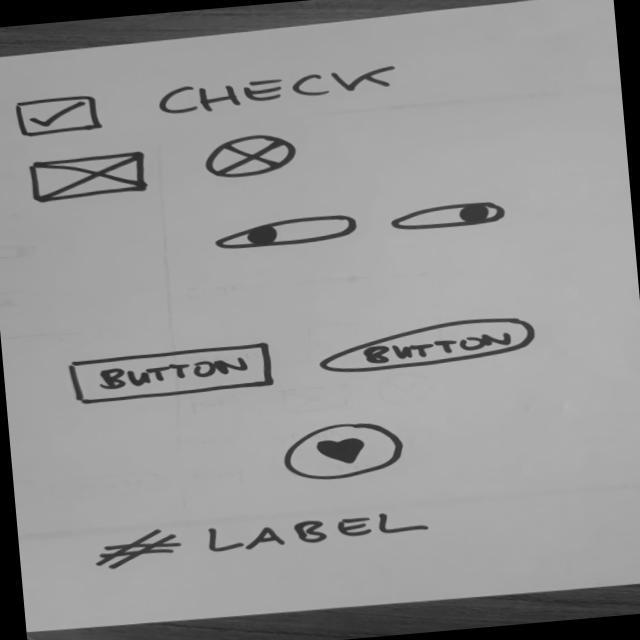button: (314, 312, 543, 379), (63, 340, 279, 409)
checkbox: (8, 56, 403, 140)
icon-button: (275, 416, 413, 489)
image: (24, 146, 158, 209), (201, 131, 301, 184)
label: (88, 502, 440, 576)
toggle: (208, 210, 365, 256), (387, 198, 510, 236)
